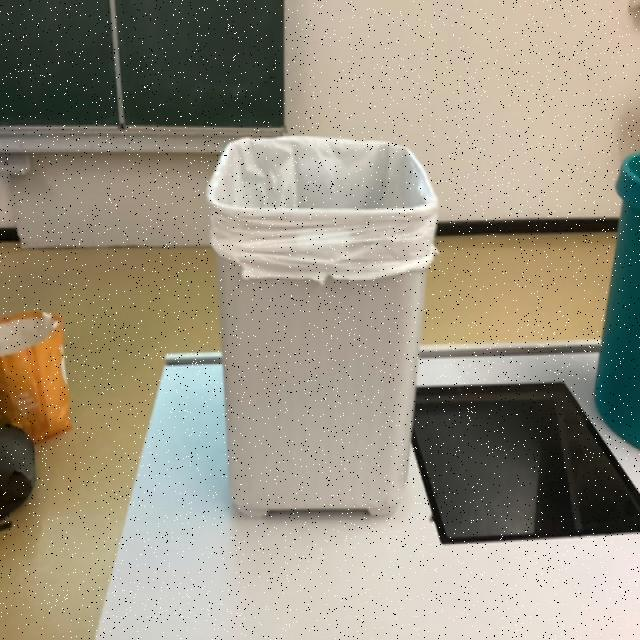garbage container: (199, 112, 436, 539), (599, 118, 640, 454)
